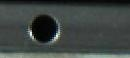holes: (29, 12, 61, 45)
